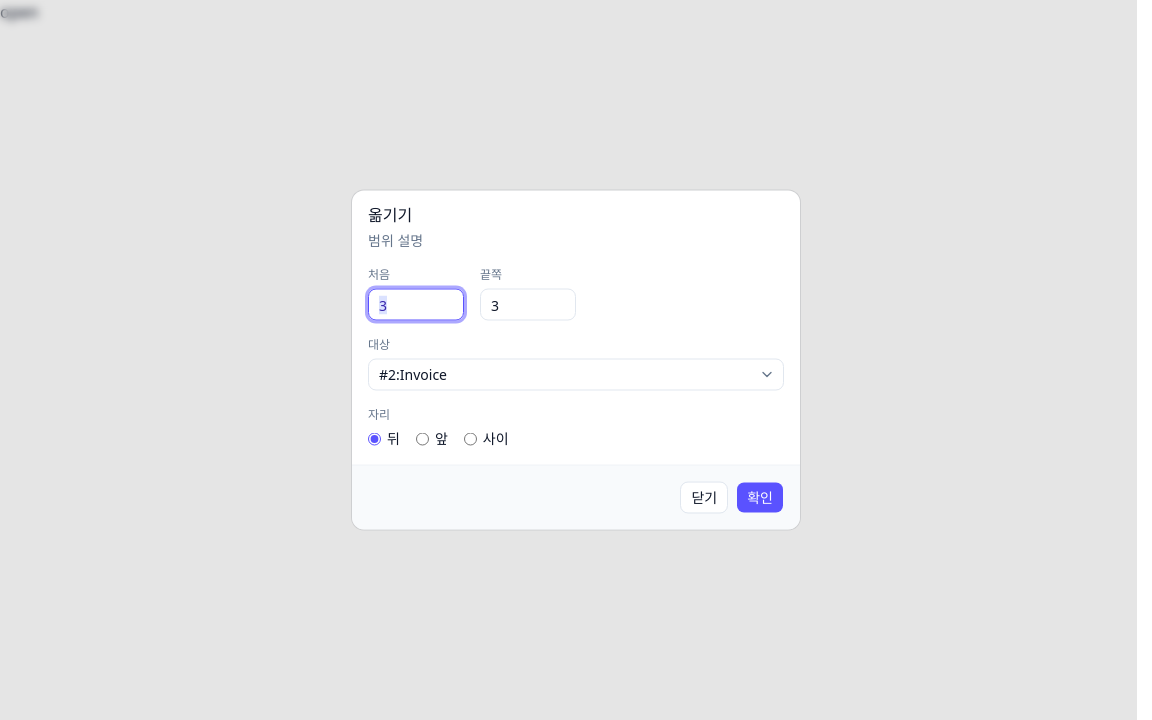
MovePagesDialog(Core) 검사와 onMove › 실패면 message 를 그대로 보이고 닫지 않는다
This screenshot has width=1152, height=720.
Click the button "확인" at (760, 498), box [736, 482, 784, 514]
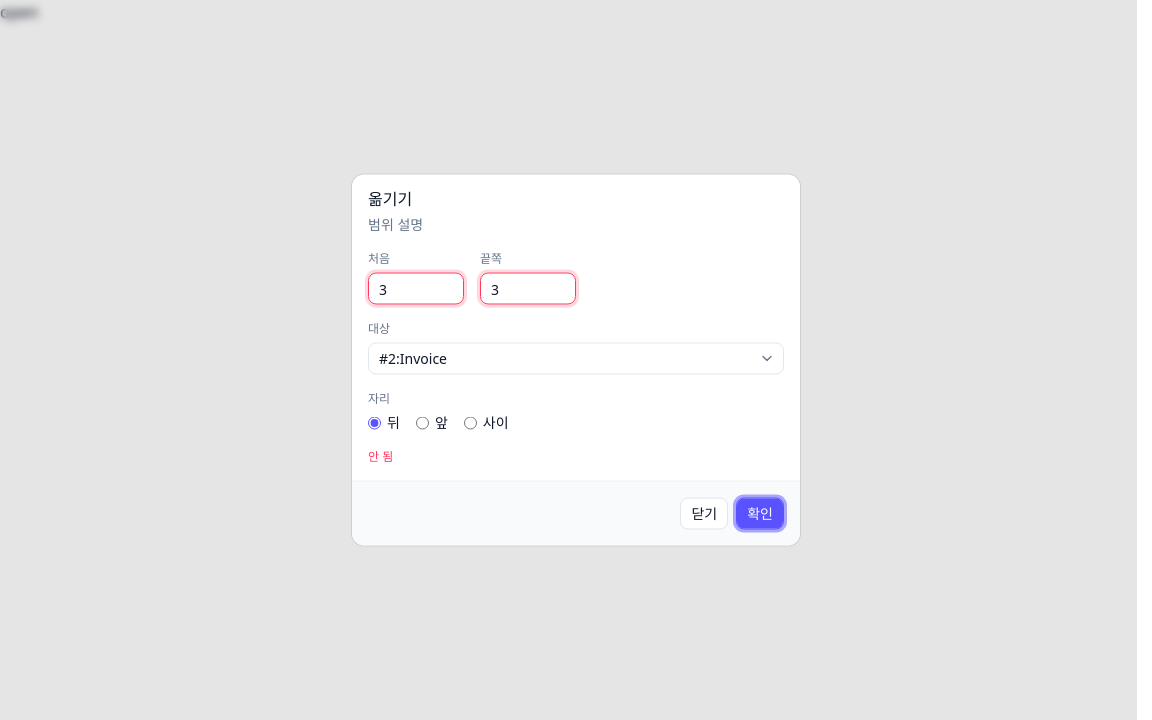
Expected: the message reads "안 됨", [368, 448, 393, 464]
